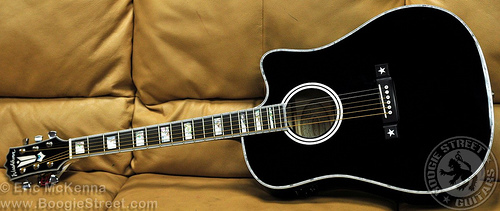guitar: (4, 5, 495, 207)
